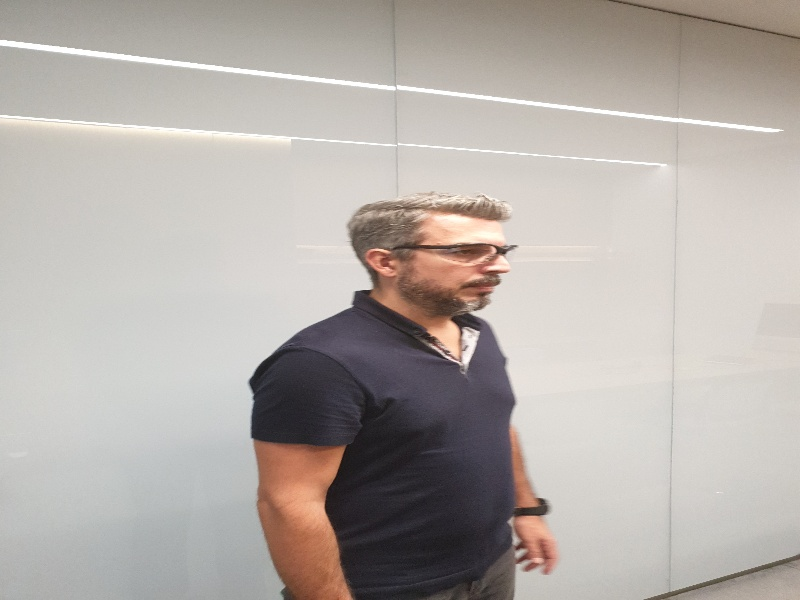Gozluk: (380, 243, 520, 264)
